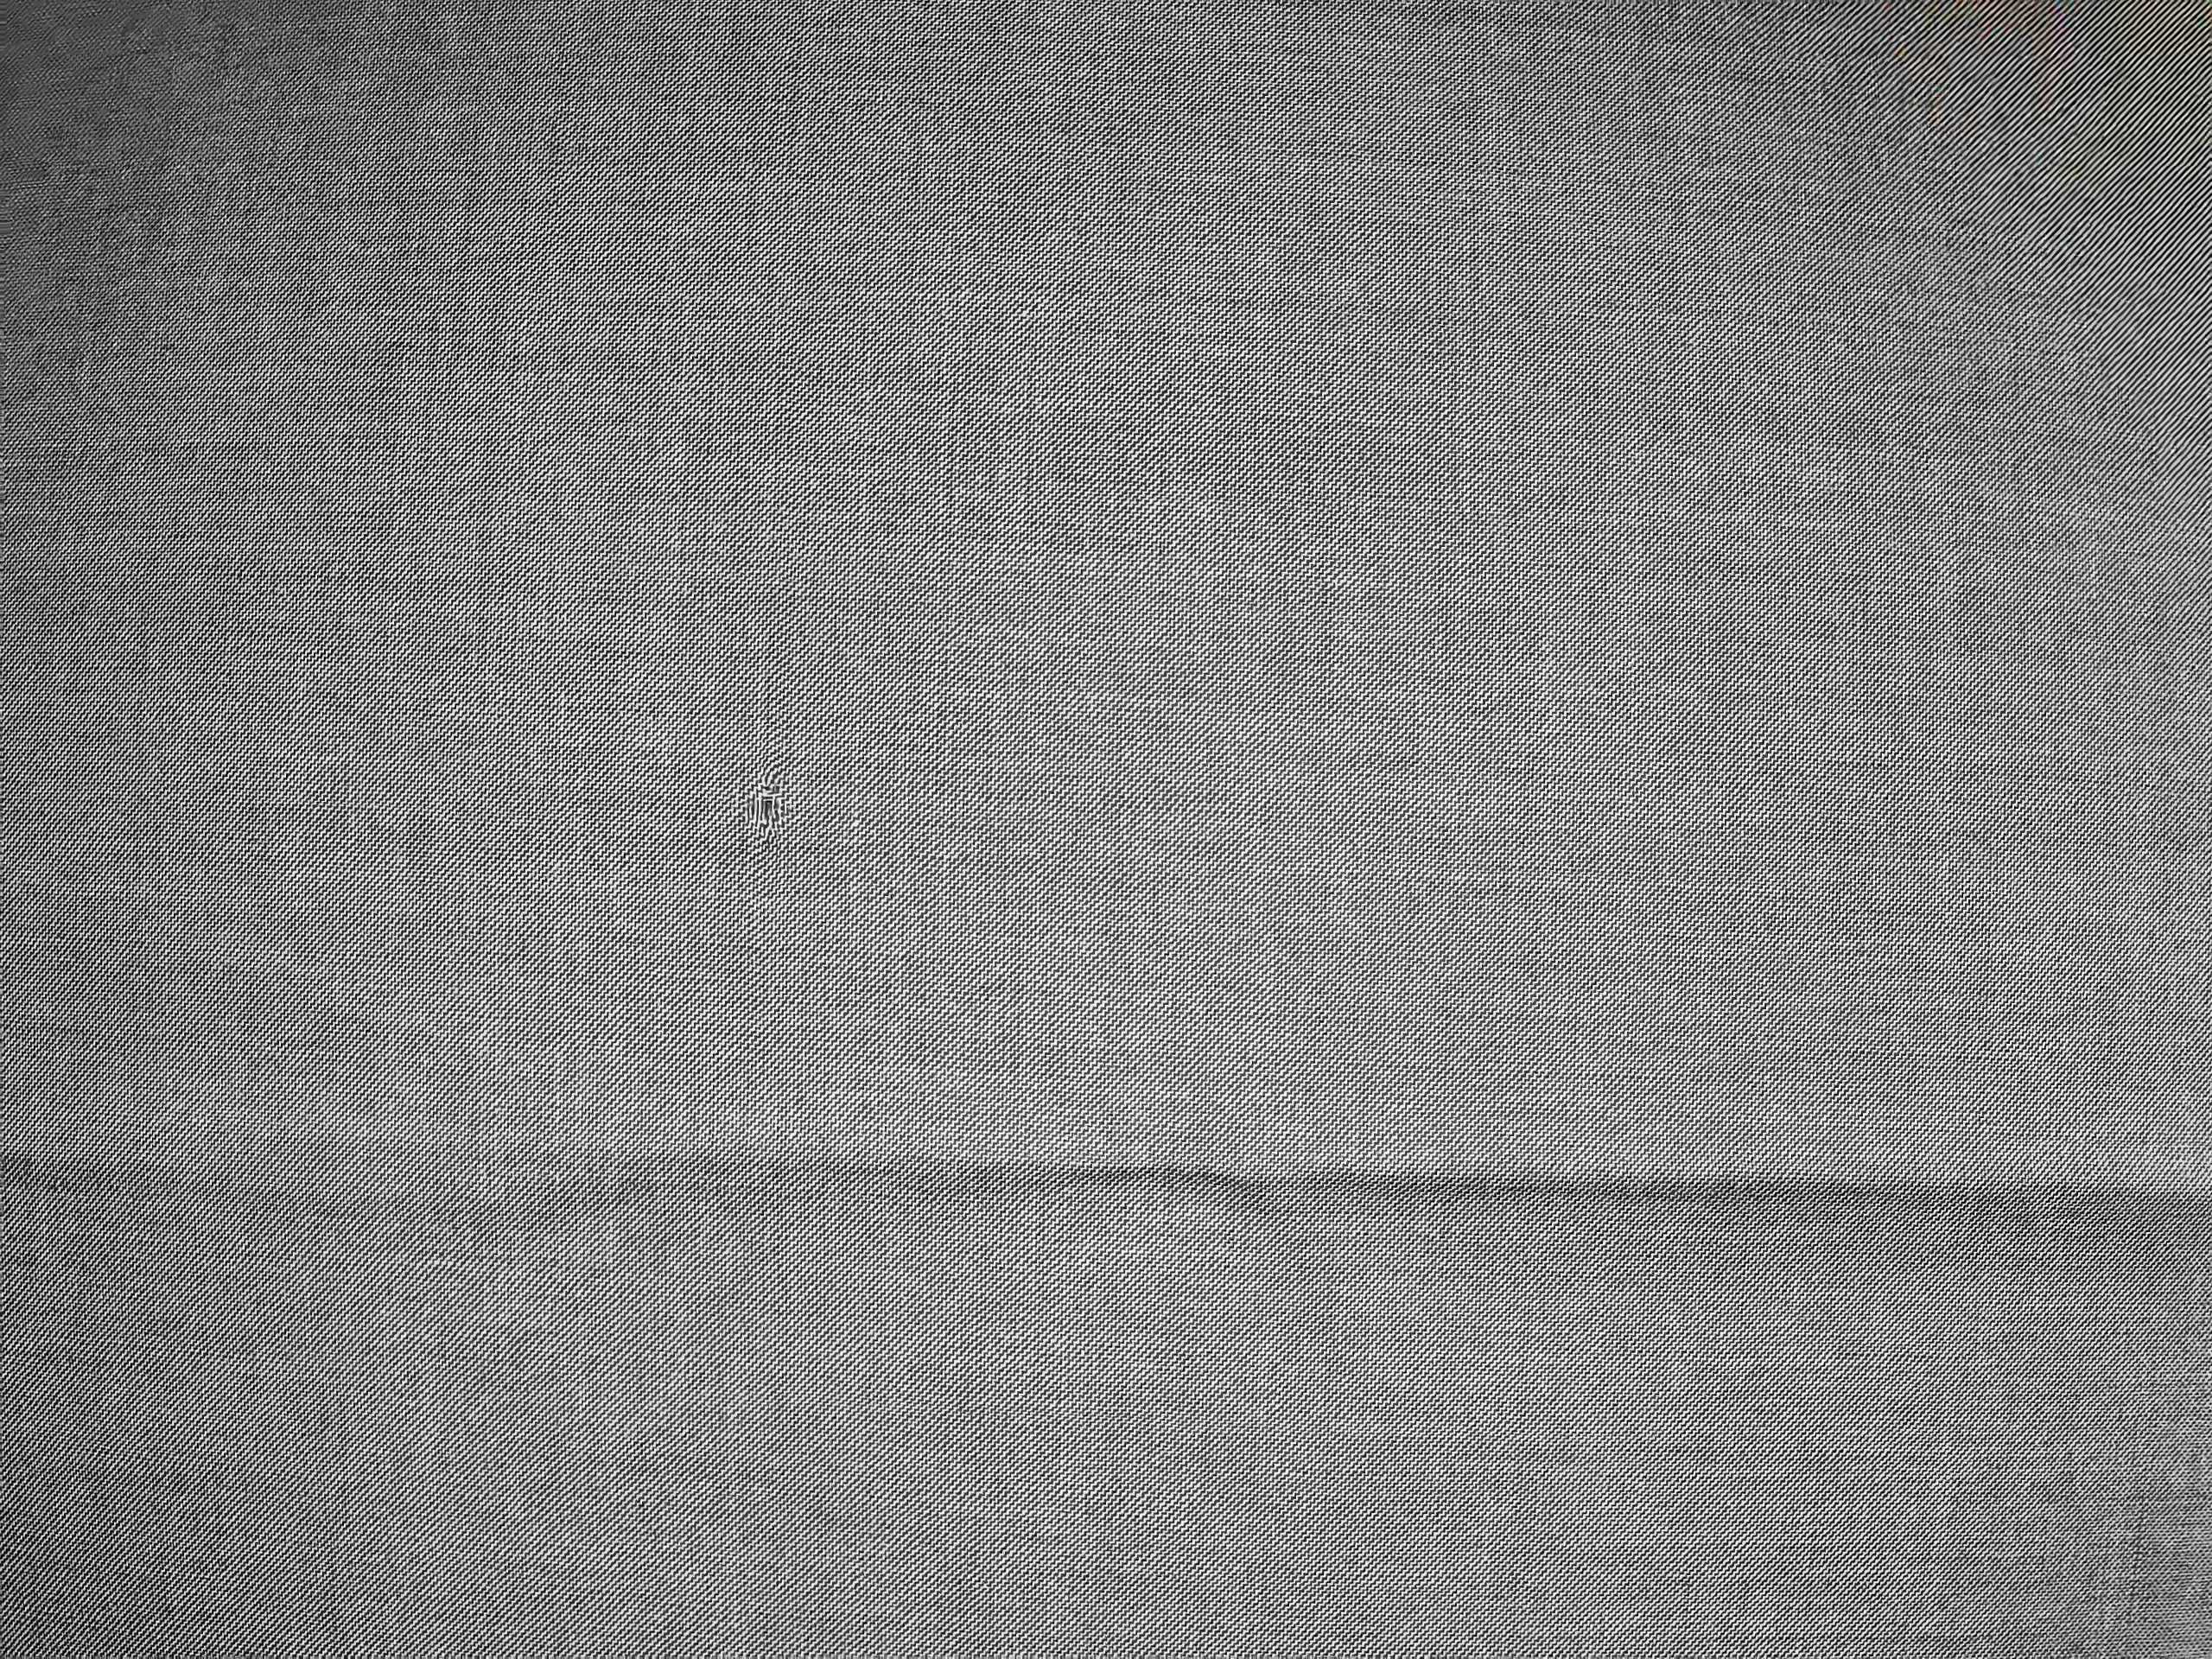brushed-hole: (728, 763, 810, 852)
